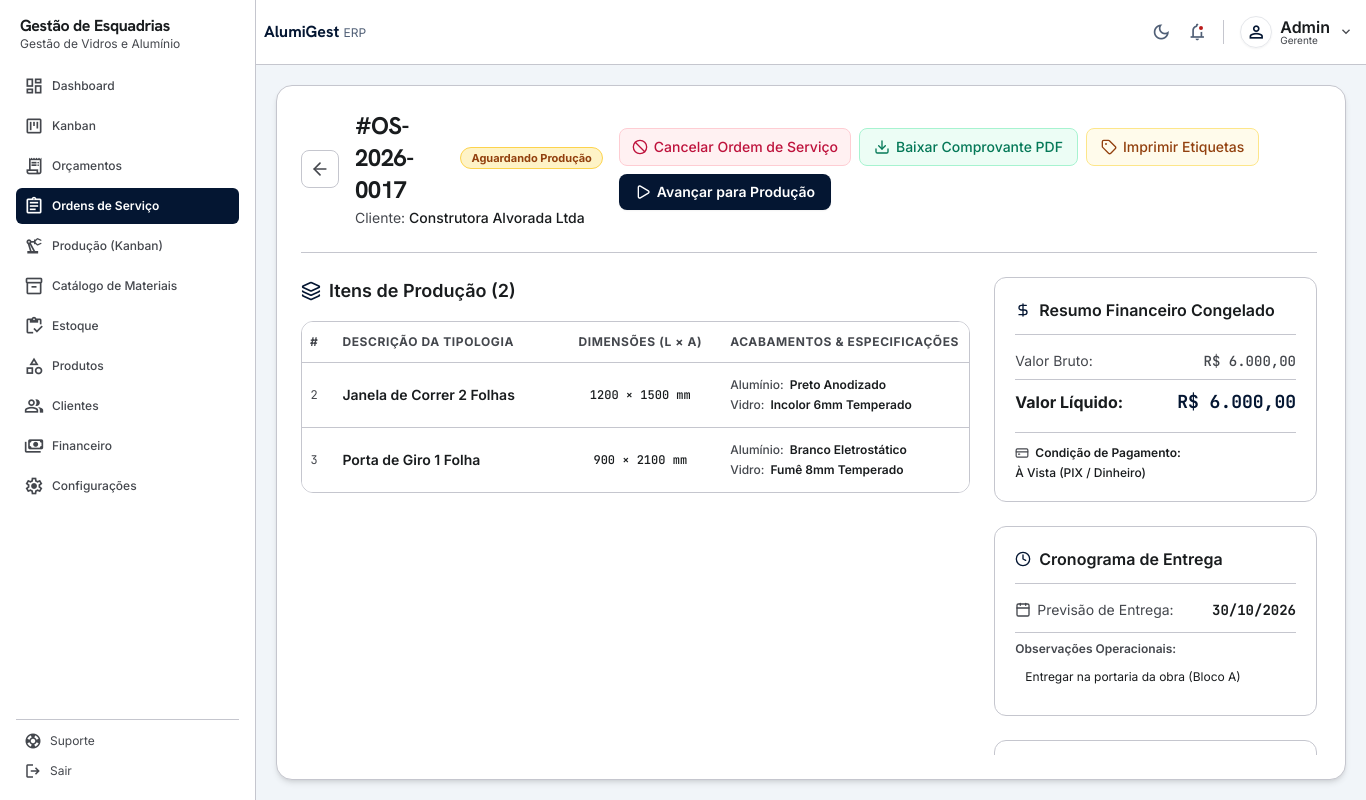
Test: US-17.5: Homologação E2E — Emissão de Etiquetas Térmicas de Identificação (100x60mm) › Cenário 1: Geração de Etiquetas Térmicas (100x60mm) com Paginação por Exemplar Físico de Peça
The width and height of the screenshot is (1366, 800).
Expected: the text "Construtora Alvorada Ltda" is shown, [409,209,585,226]
Abre a visualização prévia contínua das etiquetas
Click the button with test id "btn-open-thermal-modal": coordinates (1173, 147) [1086,128,1259,166]
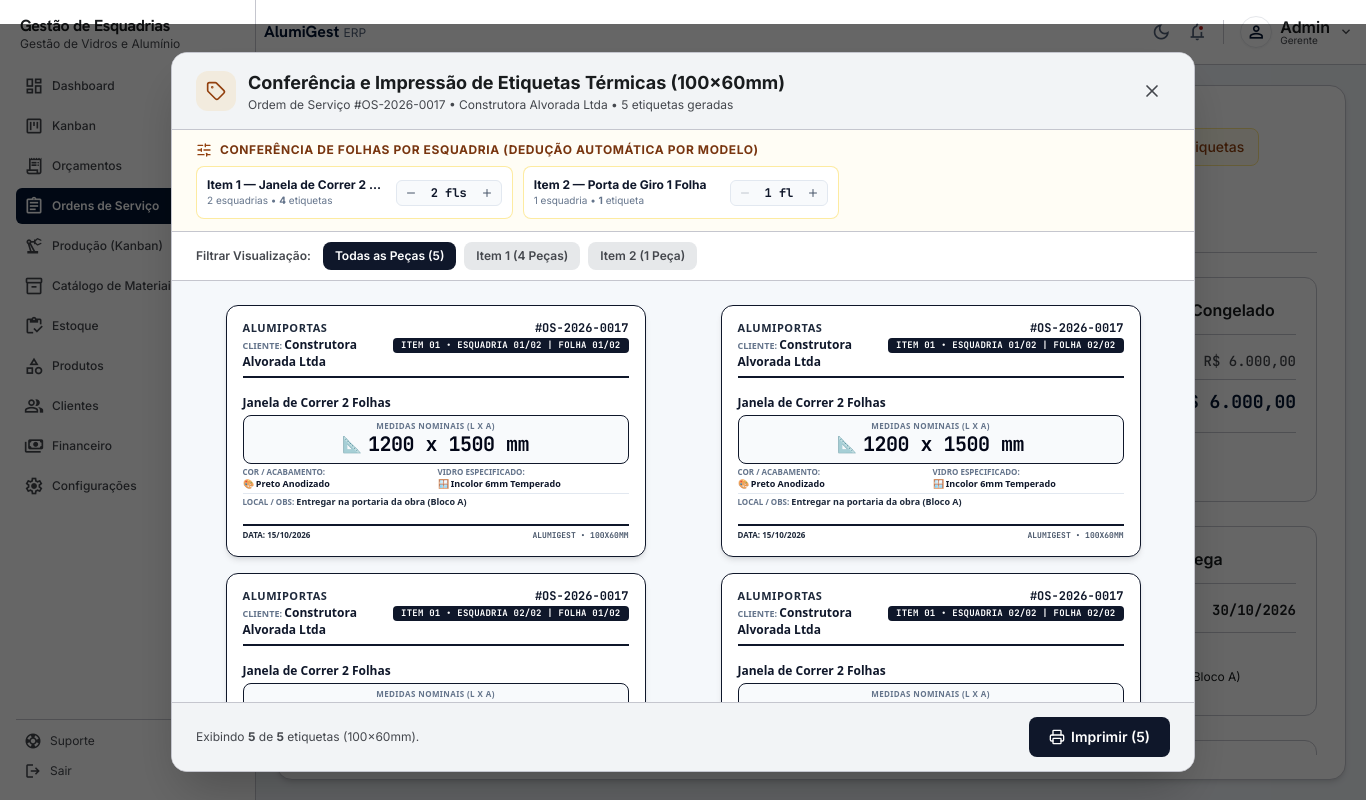
Expected: the element with test id "thermal-label-modal" is shown
Expected: the text with test id "label-piece-fraction" reads "Item 01 • Esquadria 01/02 | Folha 01/02", [393,338,628,353]
Expected: the text with test id "label-piece-fraction" reads "Item 01 • Esquadria 01/02 | Folha 02/02", [888,338,1123,353]
